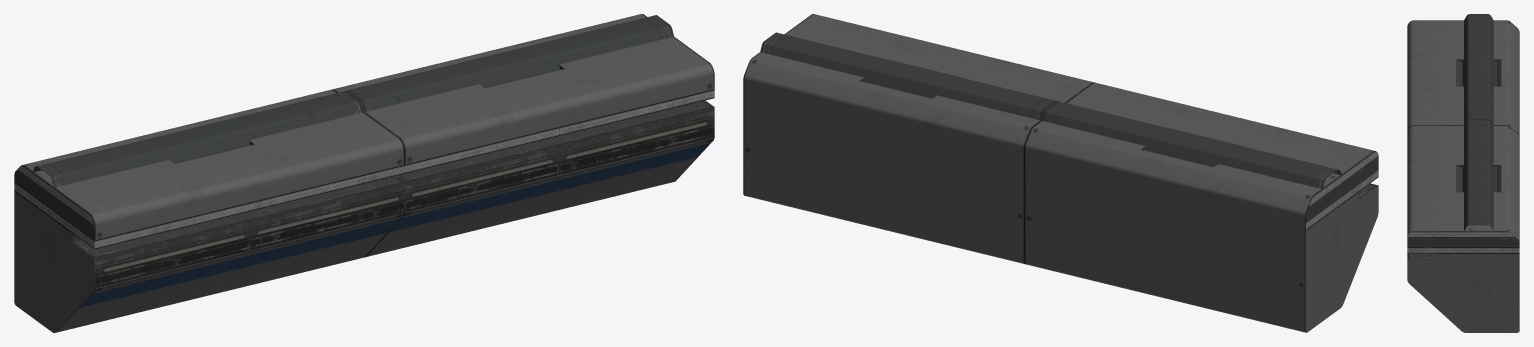
Rendered from Subway_edge_passage1.fbx.
3 renders of one model, left to right at view 1: azimuth 30°, elevation 25°; view 2: azimuth 150°, elevation 25°; view 3: azimuth 270°, elevation 25°, orthographic. The views are drawn at different scales.
Parts seen in each view (by area): view 1: polySurface277; view 2: polySurface277; view 3: polySurface277.
Part boxes in pixels (x1=…): polySurface277: x1=14, y1=14, x2=714, y2=332; polySurface277: x1=743, y1=14, x2=1378, y2=332; polySurface277: x1=1407, y1=14, x2=1519, y2=332.
Size of the model in its own units: 400 by 95.21 by 89.76.
